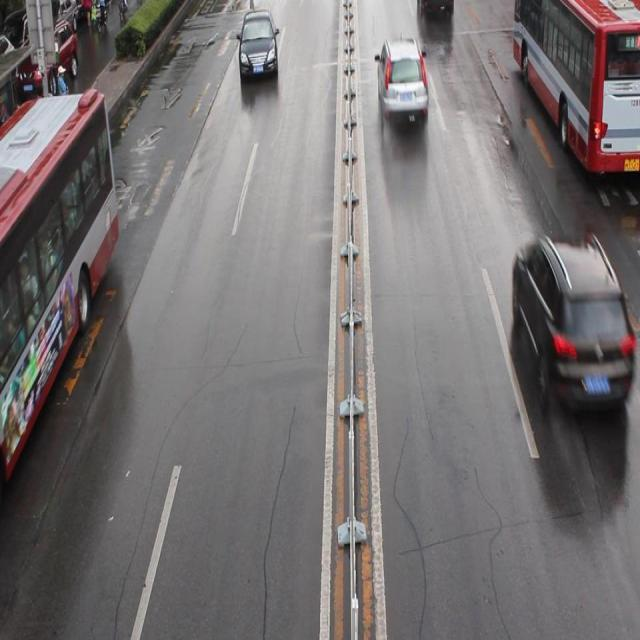car: (511, 240, 628, 409), (24, 24, 78, 99), (376, 40, 428, 116), (237, 12, 279, 76)
van: (1, 91, 117, 503), (512, 1, 640, 172)
